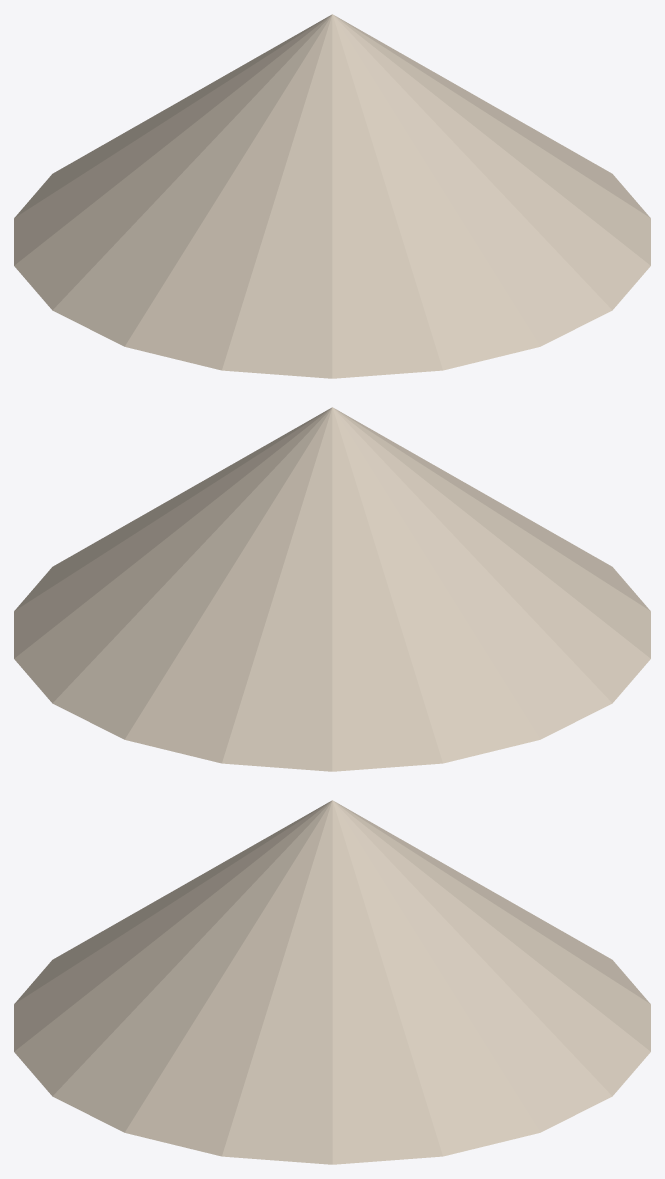
Rendered from lamp.glb.
The picture shows the model from 3 angles, top to bottom: view 1: azimuth 30°, elevation 25°; view 2: azimuth 150°, elevation 25°; view 3: azimuth 270°, elevation 25°; orthographic projection.
Parts seen in each view (by area): view 1: lamp; view 2: lamp; view 3: lamp.
Part boxes in pixels (<box>): lamp: <box>14,14,650,378</box>; lamp: <box>14,407,650,771</box>; lamp: <box>14,800,650,1164</box>.
Size of the model in its own units: 1.8 by 1.04 by 1.77.
